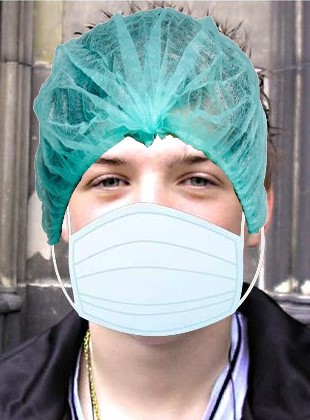with_mask_and_cap: (40, 13, 270, 334)
